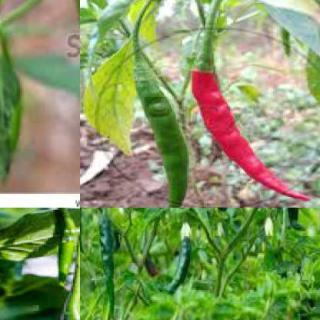green_chilli: (118, 38, 192, 207), (95, 214, 118, 319), (162, 233, 197, 292), (55, 231, 79, 291), (282, 208, 306, 230), (80, 208, 85, 257)
